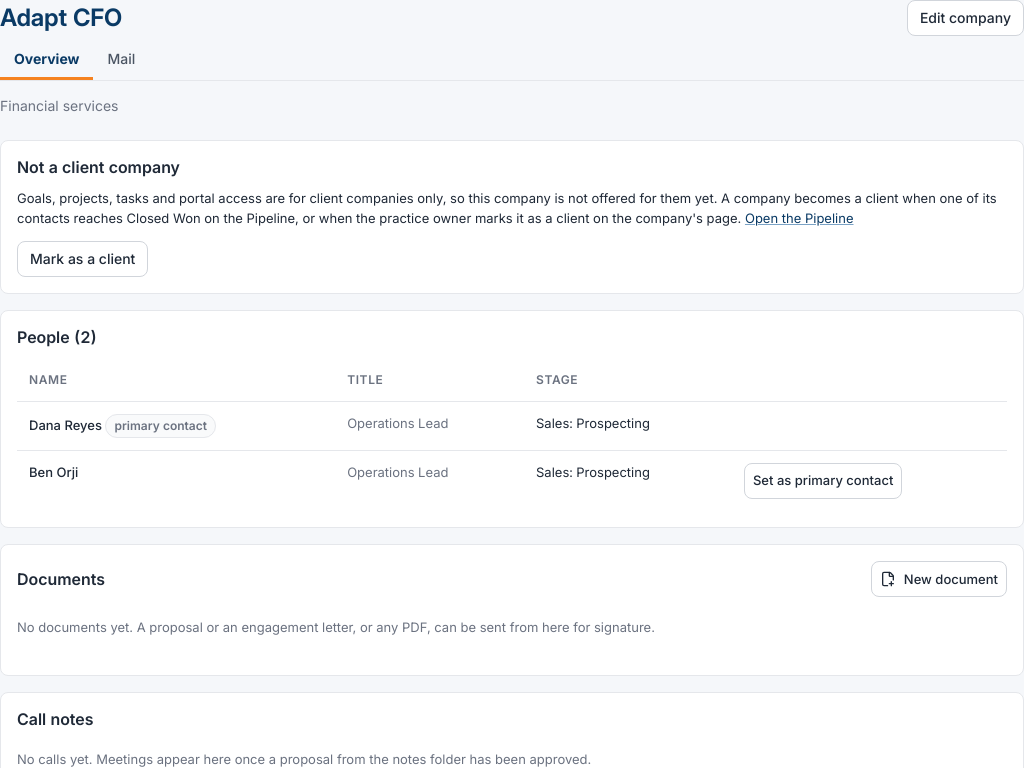
Test: the primary contact on the People list › marks the primary contact and sets another from the list
The width and height of the screenshot is (1024, 768).
Expected: the text "primary contact" is shown, 106,414 -> 216,438
Click the button with aria-label "Set Ben Orji as primary contact" at (823, 481), box 744,463 -> 902,499
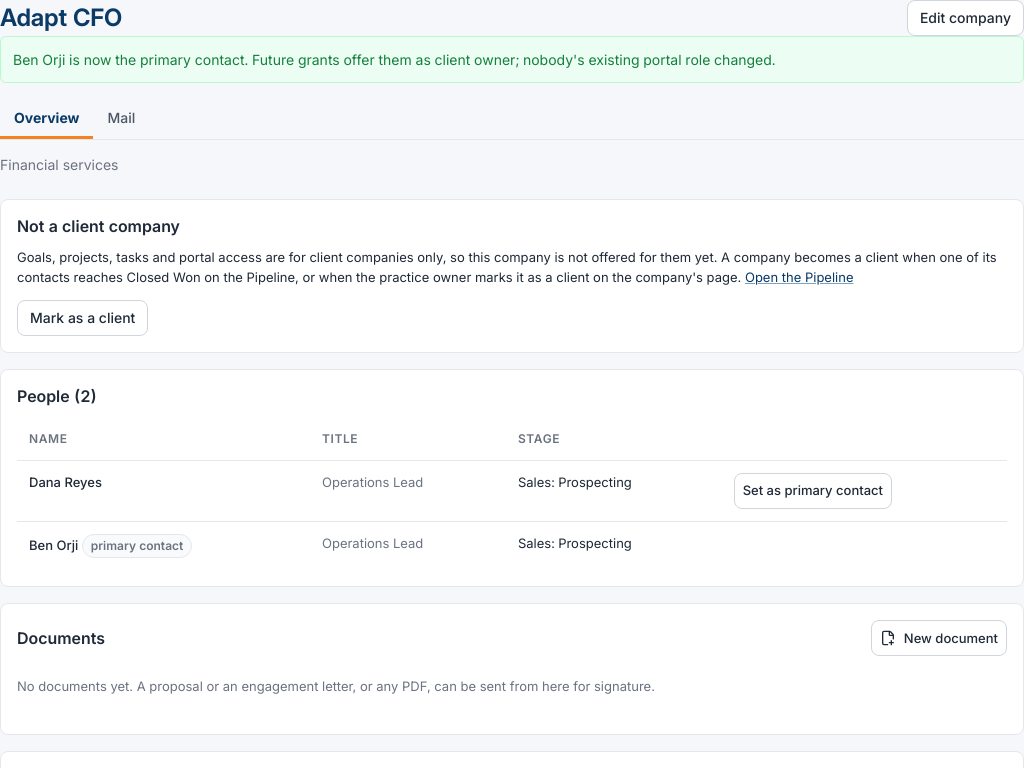
Now the text "nobody's existing portal role changed" is shown, box 13,51 -> 776,68
Now the button with aria-label "Set Dana Reyes as primary contact" is shown, box 734,473 -> 892,509
